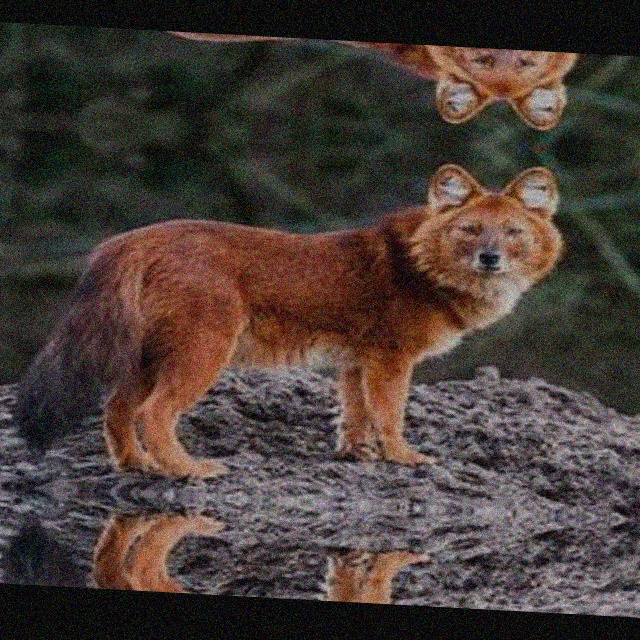dog: (76, 153, 595, 371), (94, 27, 604, 121)
